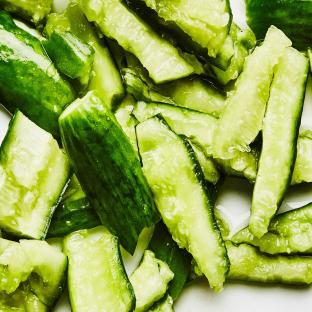Cucumber: (136, 115, 229, 292), (59, 91, 159, 254), (250, 48, 309, 238), (211, 27, 291, 159), (0, 11, 75, 143), (84, 0, 193, 83), (0, 110, 70, 239), (44, 3, 125, 110), (122, 53, 226, 116), (64, 230, 135, 311), (0, 239, 67, 311), (133, 102, 217, 156), (231, 204, 311, 254), (226, 241, 311, 285), (46, 175, 102, 238), (148, 221, 190, 300), (20, 240, 67, 307), (42, 31, 94, 84), (129, 250, 174, 311), (211, 23, 256, 84), (0, 239, 33, 293), (115, 95, 138, 156), (0, 283, 50, 311), (188, 139, 219, 184), (291, 137, 311, 184), (207, 174, 225, 206), (149, 295, 174, 311), (307, 48, 311, 73)
